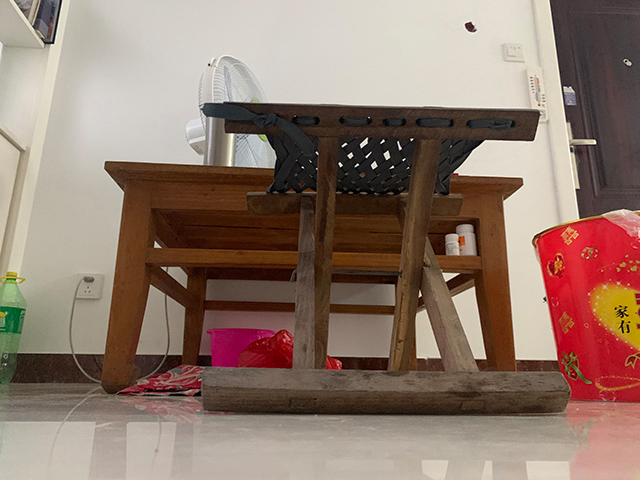stool: (199, 101, 571, 417)
table: (100, 160, 525, 396)
trashcan: (531, 208, 640, 404)
wire: (68, 277, 172, 387)
